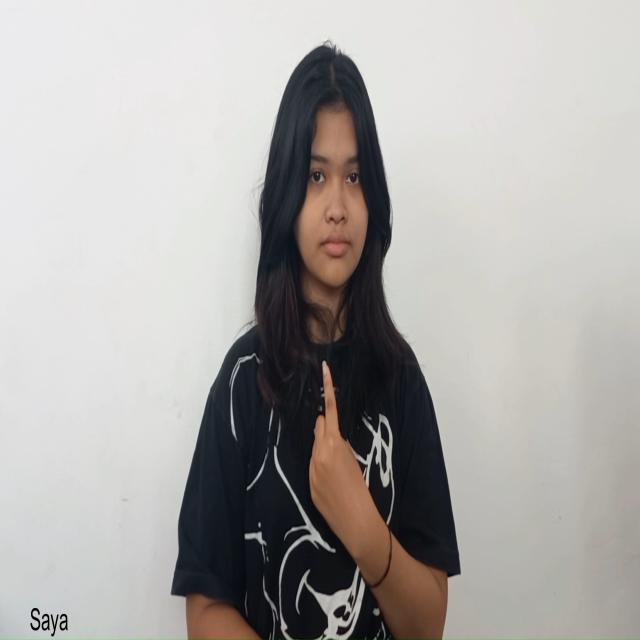Saya -BISINDO-: (306, 354, 372, 570)
